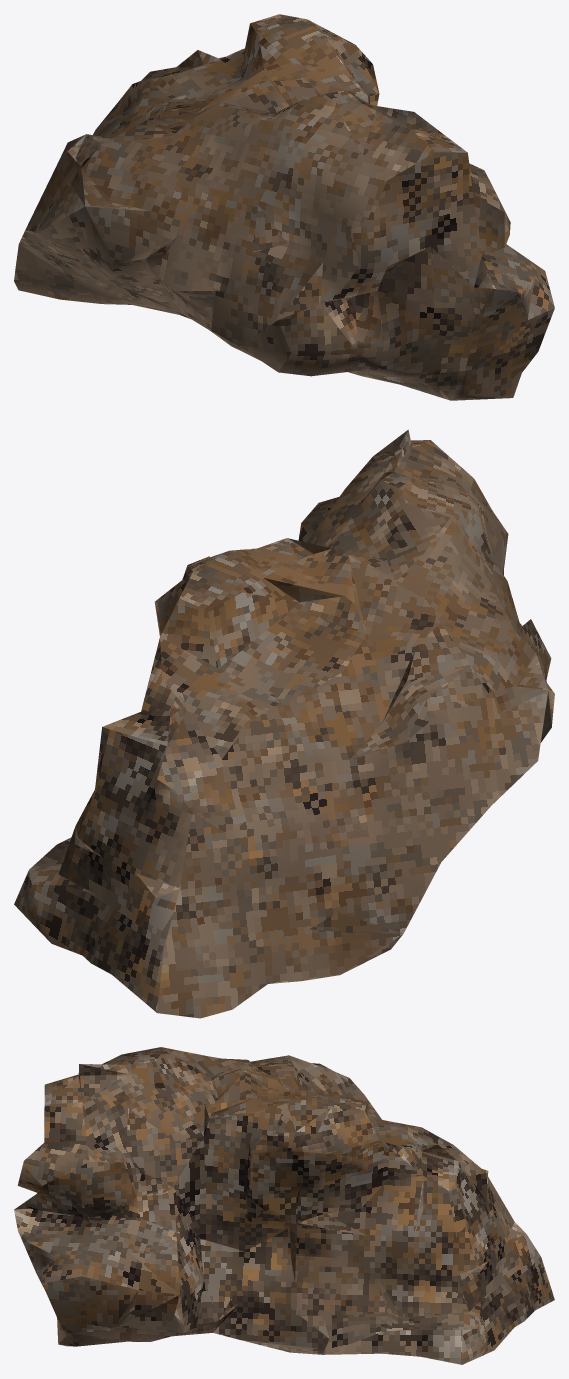
Rendered from boulder_01.glb.
3 views of the same model, one above another, from view 1: azimuth 30°, elevation 25°; view 2: azimuth 150°, elevation 25°; view 3: azimuth 270°, elevation 25° (orthographic). The views are drawn at different scales.
Visible parts, largest first — view 1: mesh; view 2: mesh; view 3: mesh.
Part boxes in pixels (x1,y1,x2,y2): mesh: (14, 14, 554, 400); mesh: (14, 429, 554, 1018); mesh: (14, 1047, 554, 1364).
Bounding box in the file's own units: 1.31 × 1 × 1.85.
Materials: 1 (1 with a texture image).
